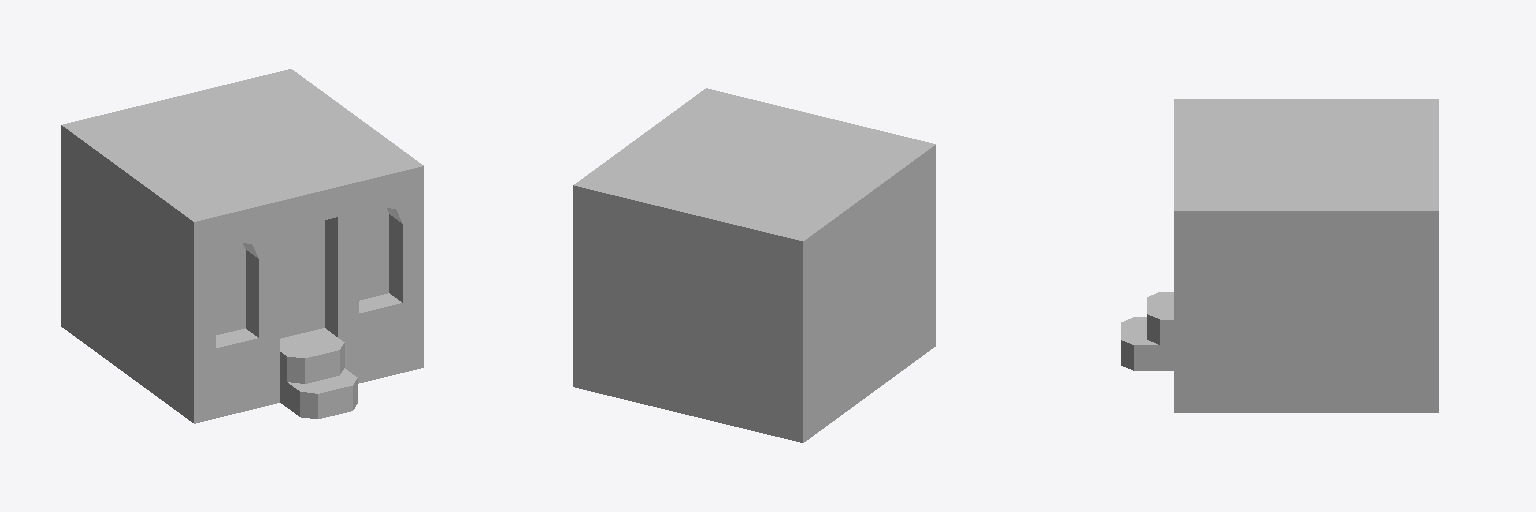
File: building-steps-narrow-windows-round.obj
3 renders of one model, left to right at view 1: azimuth 30°, elevation 25°; view 2: azimuth 150°, elevation 25°; view 3: azimuth 270°, elevation 25°, orthographic.
Parts seen in each view (by area): view 1: building-steps-narrow-windows-round; view 2: building-steps-narrow-windows-round; view 3: building-steps-narrow-windows-round.
Part boxes in pixels (left/top/right/bottom): building-steps-narrow-windows-round: left=61, top=69, right=423, bottom=423; building-steps-narrow-windows-round: left=573, top=88, right=935, bottom=442; building-steps-narrow-windows-round: left=1121, top=99, right=1438, bottom=412.
Bounding box in the file's own units: 1 × 0.8375 × 1.2.